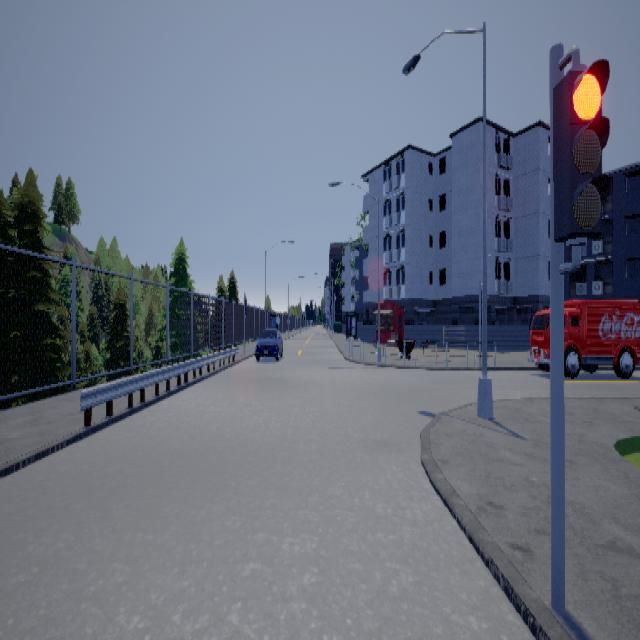red_light: (552, 44, 610, 273)
vehicle: (528, 298, 639, 379), (254, 327, 282, 360)
